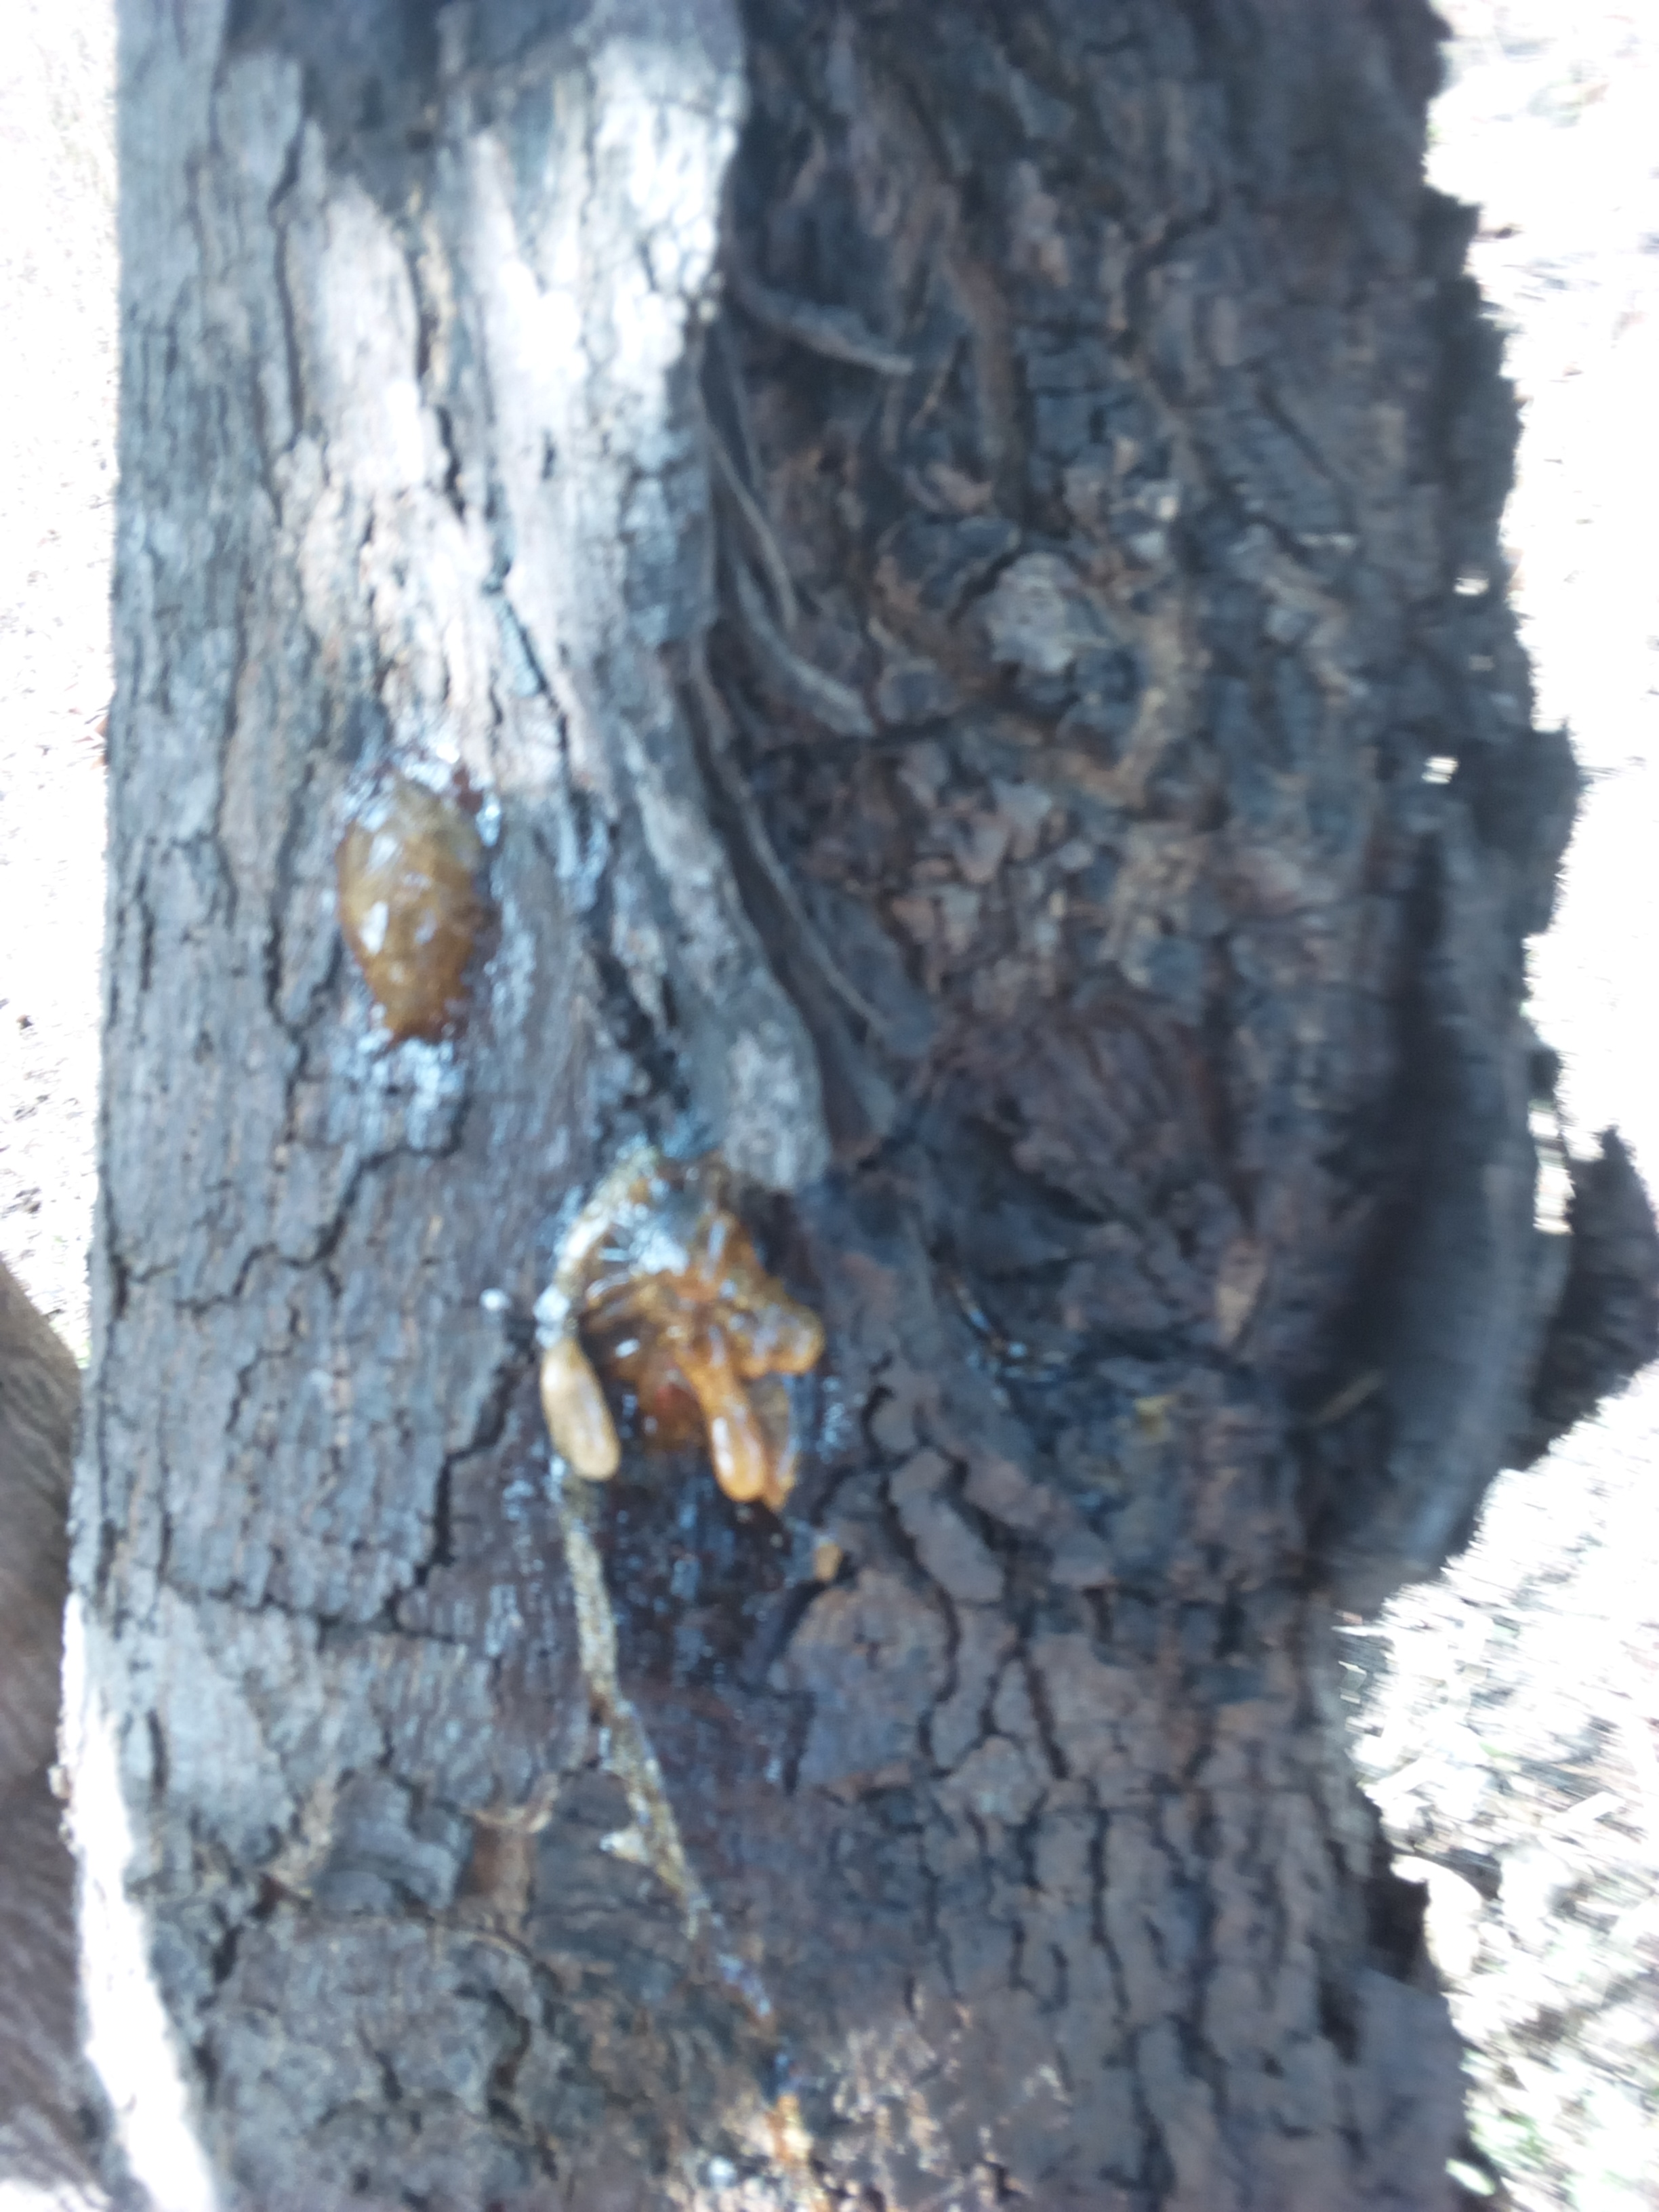Gommose: (701, 24, 1473, 1550), (518, 1174, 938, 1726), (331, 754, 488, 1078)
